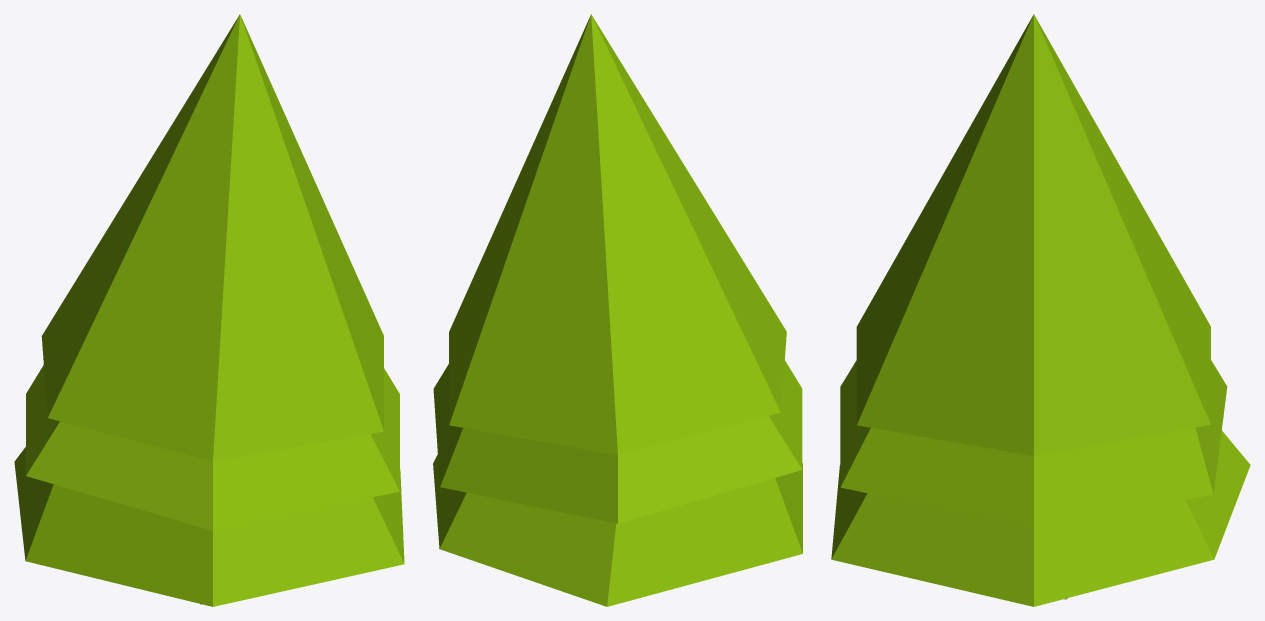
File: pine_skewed_5.fbx
3 renders of one model, left to right at view 1: azimuth 30°, elevation 25°; view 2: azimuth 150°, elevation 25°; view 3: azimuth 270°, elevation 25°, orthographic. The views are drawn at different scales.
Visible parts, largest first — view 1: pine_skewed_5; view 2: pine_skewed_5; view 3: pine_skewed_5.
Part boxes in pixels (x1,y1,x2,y2): pine_skewed_5: (14,14,404,606); pine_skewed_5: (433,14,802,606); pine_skewed_5: (831,14,1250,606).
Size of the model in its own units: 185 by 267 by 173.
